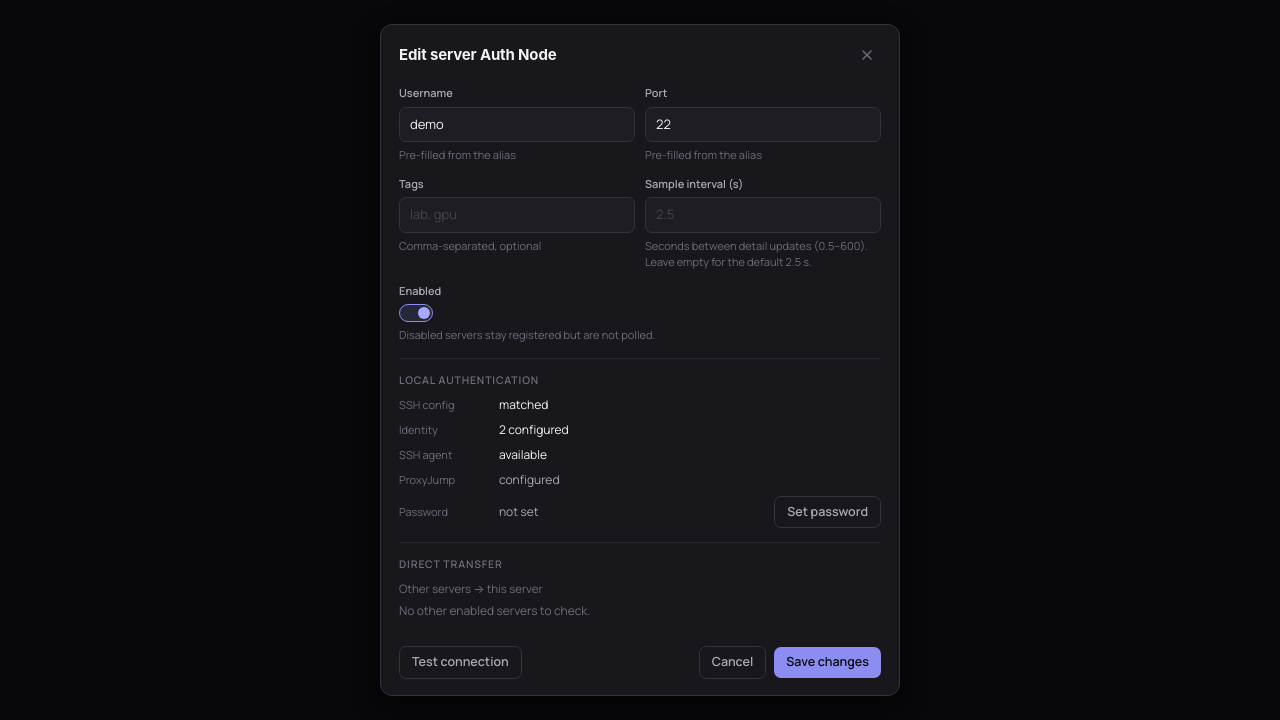
Scenario: ServerDialog password credential flow › shows the SAVE failure prefix when the first save fails
This screenshot has width=1280, height=720.
(page scrolled)
Click the button "Set password": [828, 512] box [774, 496, 881, 528]
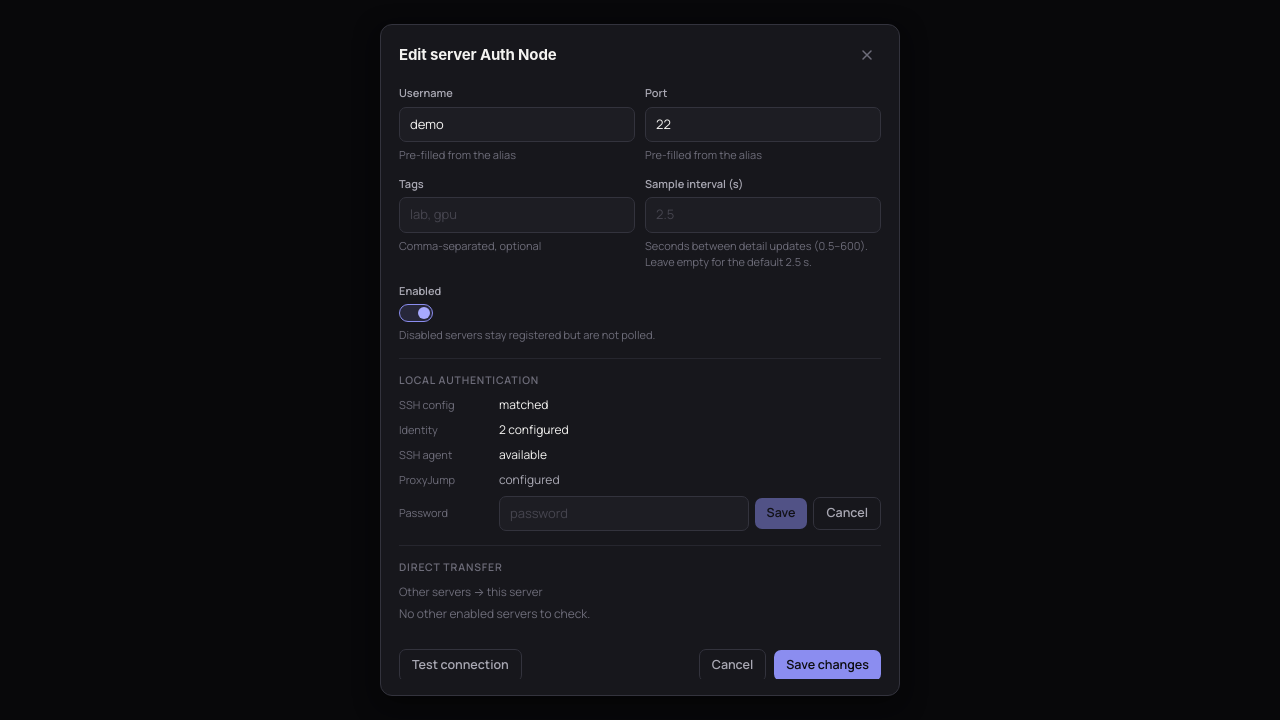
In the password field labelled "password": [624, 513] box [499, 496, 749, 531], type "s3cret-pw"
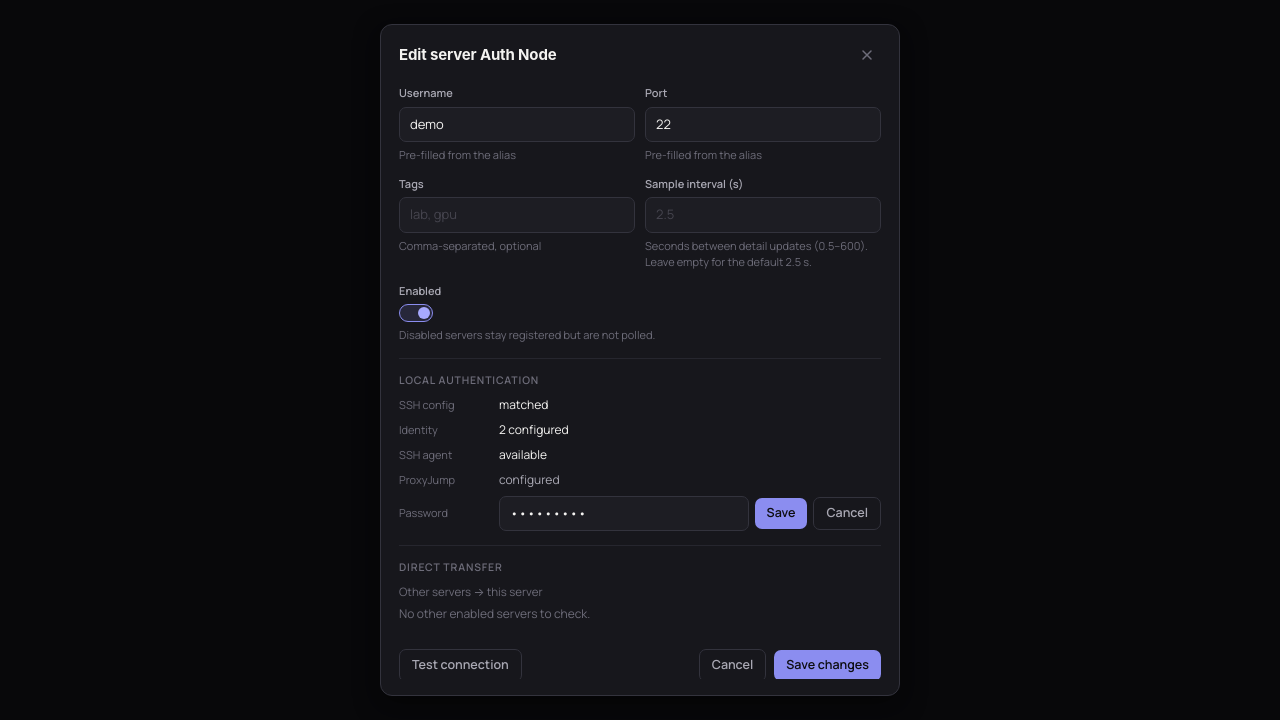
Click the button "Save": [781, 513] box [755, 498, 807, 529]
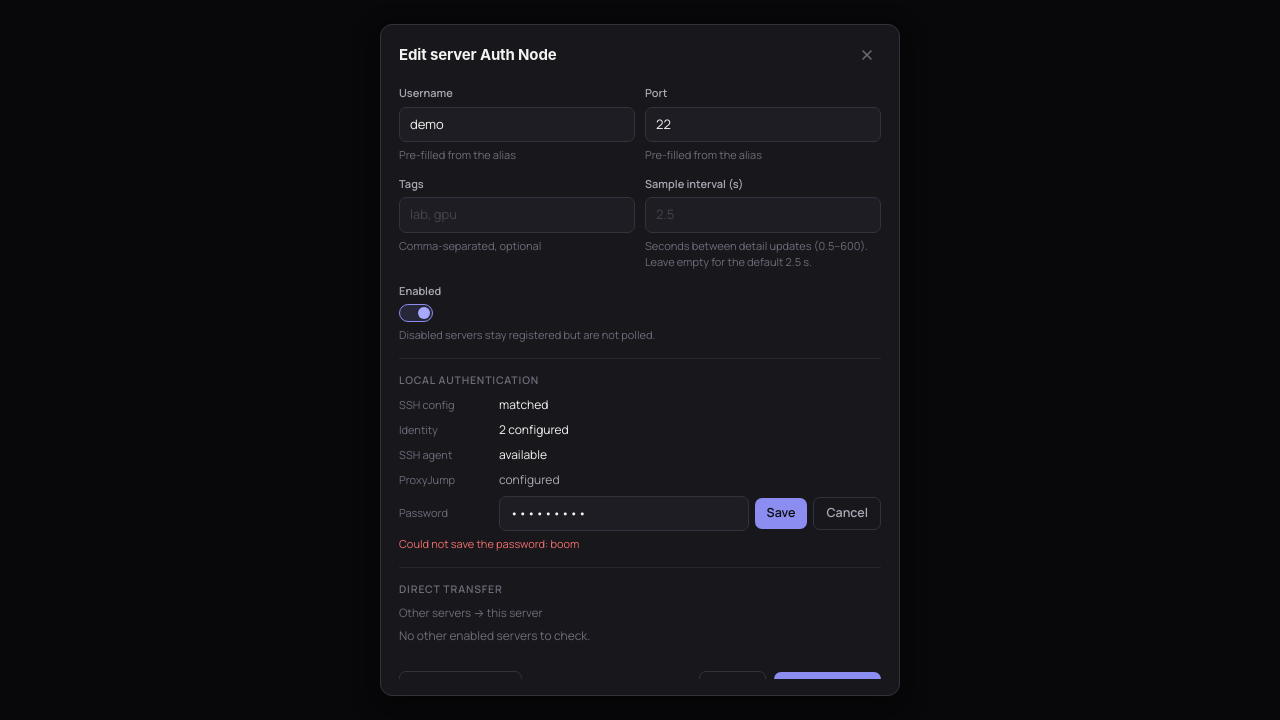
Result: the text "Could not save the password: boom" is shown at [399, 536, 580, 551]
